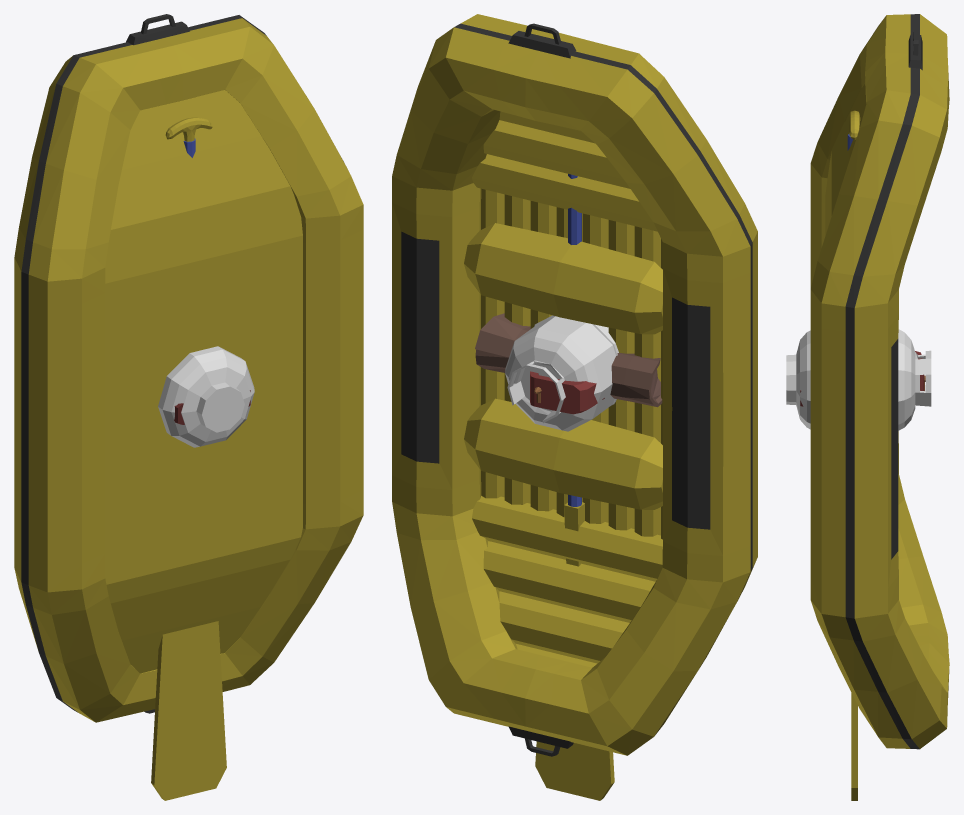
File: Props.dae
3 renders of one model, left to right at view 1: azimuth 30°, elevation 25°; view 2: azimuth 150°, elevation 25°; view 3: azimuth 270°, elevation 25°, orthographic. The views are drawn at different scales.
Parts seen in each view (by area): view 1: Raft, Paddle, PropaneTank; view 2: Raft, PropaneTank, Paddle, WoodLog, GasCan; view 3: Raft, PropaneTank, Paddle.
Part boxes in pixels (bbox=[...]): Raft: bbox=[14, 14, 363, 722]; Paddle: bbox=[151, 117, 226, 800]; PropaneTank: bbox=[158, 346, 254, 447]; Raft: bbox=[392, 14, 757, 756]; PropaneTank: bbox=[505, 315, 618, 431]; Paddle: bbox=[535, 174, 614, 800]; WoodLog: bbox=[475, 313, 662, 407]; GasCan: bbox=[530, 371, 604, 414]; Raft: bbox=[810, 14, 949, 749]; PropaneTank: bbox=[786, 329, 931, 430]; Paddle: bbox=[847, 110, 860, 800].
Size of the model in its own units: 1.79 by 0.7573 by 3.86.
